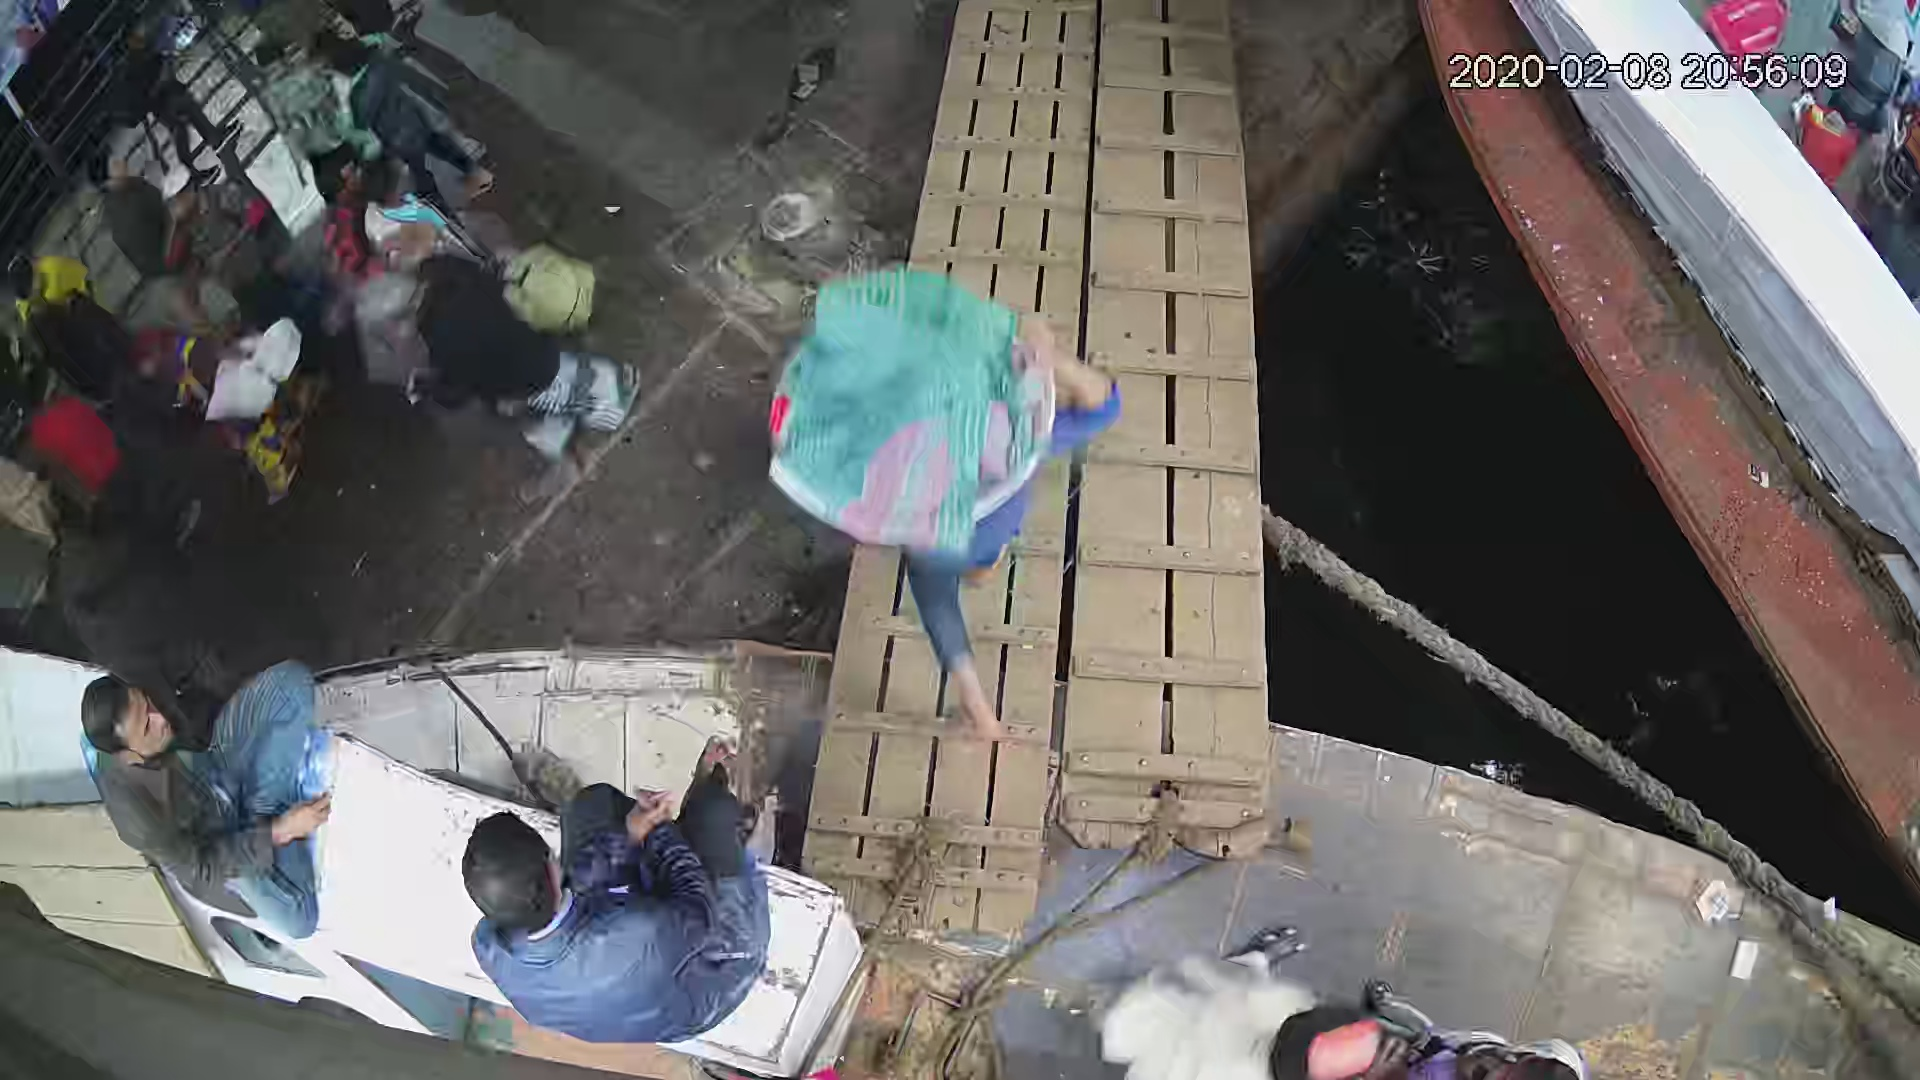person: (765, 278, 1105, 742), (455, 747, 784, 1036), (73, 659, 335, 945), (356, 276, 644, 478), (155, 166, 324, 359), (130, 338, 314, 498), (342, 48, 509, 212), (84, 154, 212, 328), (112, 19, 242, 165)
